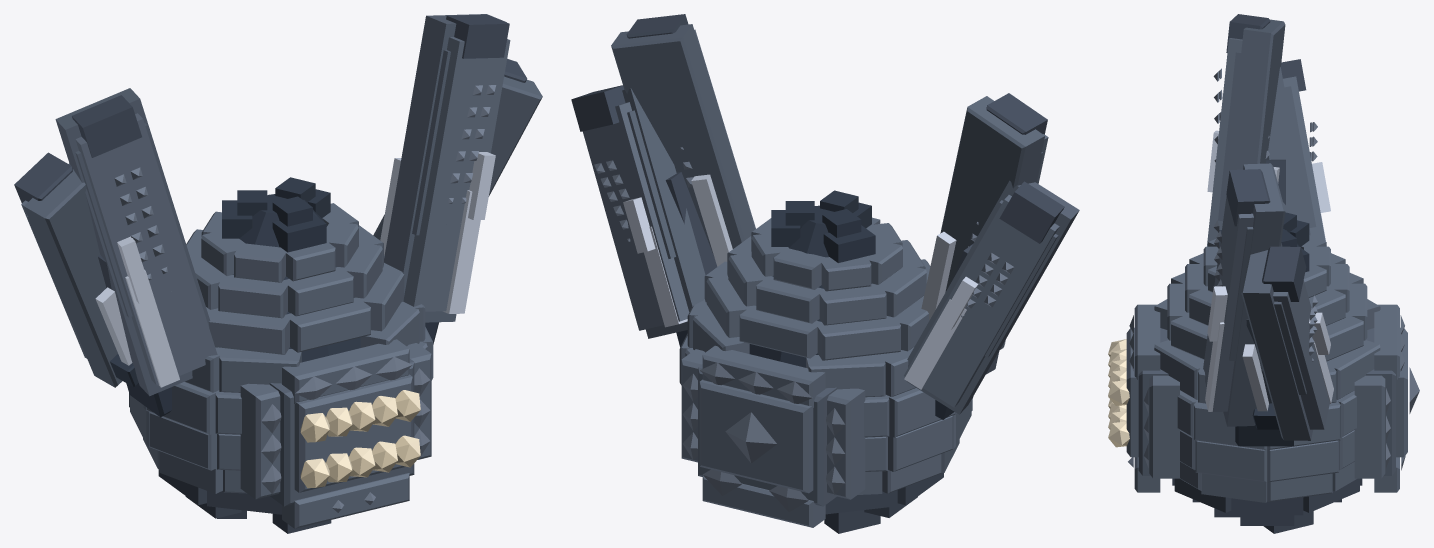
Rendered from Steel Vanguard Egg.fbx.
3 renders of one model, left to right at view 1: azimuth 30°, elevation 25°; view 2: azimuth 150°, elevation 25°; view 3: azimuth 270°, elevation 25°, orthographic. The views are drawn at different scales.
Parts seen in each view (by area): view 1: Left | Twin-panel mechanical wing, Right | Twin-panel mechanical wing, Front | raised panel, Front | side pillar -0.53, Front | cross rail 0.44, Front | cross rail 1.3, Tier 08 | steel block 01, Tier 08 | steel block 08, Front | square armor carrier, Tier 07 | steel block 10, Tier 09 | steel block 08, Tier 05 | steel block 09 (+32 smaller); view 2: Right | Twin-panel mechanical wing, Left | Twin-panel mechanical wing, Rear | raised panel, Rear | side pillar -0.53, Rear | cross rail 1.3, Tier 08 | steel block 06, Tier 08 | steel block 05, Rear | cross rail 0.44, Tier 07 | steel block 07, Rear | square armor carrier, Tier 09 | steel block 06, Tier 05 | steel block 08 (+26 smaller); view 3: Right | Twin-panel mechanical wing, Left | Twin-panel mechanical wing, Rear | side pillar +0.53, Front | side pillar +0.53, Tier 05 | steel block 04, Tier 05 | steel block 03, Front | cross rail 1.3, Rear | cross rail 1.3, Tier 07 | steel block 05, Tier 07 | steel block 02, Tier 04 | steel block 03, Tier 06 | steel block 03 (+32 smaller).
Part boxes in pixels (left/top/right/bottom): Left | Twin-panel mechanical wing: left=14, top=88, right=217, bottom=417; Right | Twin-panel mechanical wing: left=373, top=14, right=542, bottom=344; Front | raised panel: left=294, top=374, right=412, bottom=492; Front | side pillar -0.53: left=240, top=383, right=280, bottom=499; Front | cross rail 0.44: left=282, top=473, right=409, bottom=528; Front | cross rail 1.3: left=282, top=339, right=409, bottom=403; Tier 08 | steel block 01: left=285, top=297, right=370, bottom=352; Tier 08 | steel block 08: left=207, top=308, right=289, bottom=354; Front | square armor carrier: left=269, top=358, right=414, bottom=506; Tier 07 | steel block 10: left=219, top=348, right=301, bottom=392; Tier 09 | steel block 08: left=218, top=275, right=290, bottom=318; Tier 05 | steel block 09: left=149, top=412, right=216, bottom=470; Right | Twin-panel mechanical wing: left=571, top=14, right=755, bottom=347; Left | Twin-panel mechanical wing: left=904, top=93, right=1079, bottom=419; Rear | raised panel: left=699, top=379, right=813, bottom=493; Rear | side pillar -0.53: left=827, top=388, right=865, bottom=499; Rear | cross rail 1.3: left=702, top=345, right=825, bottom=407; Tier 08 | steel block 06: left=817, top=316, right=900, bottom=360; Tier 08 | steel block 05: left=739, top=305, right=822, bottom=358; Rear | cross rail 0.44: left=702, top=475, right=825, bottom=527; Tier 07 | steel block 07: left=806, top=354, right=885, bottom=397; Rear | square armor carrier: left=698, top=364, right=837, bottom=506; Tier 09 | steel block 06: left=819, top=283, right=886, bottom=325; Tier 05 | steel block 08: left=888, top=415, right=952, bottom=471; Right | Twin-panel mechanical wing: left=1203, top=163, right=1333, bottom=446; Left | Twin-panel mechanical wing: left=1207, top=14, right=1330, bottom=246; Rear | side pillar +0.53: left=1354, top=375, right=1385, bottom=478; Front | side pillar +0.53: left=1149, top=375, right=1179, bottom=478; Tier 05 | steel block 04: left=1267, top=440, right=1339, bottom=482; Tier 05 | steel block 03: left=1195, top=440, right=1267, bottom=482; Front | cross rail 1.3: left=1134, top=304, right=1160, bottom=379; Rear | cross rail 1.3: left=1374, top=304, right=1399, bottom=379; Tier 07 | steel block 05: left=1327, top=340, right=1380, bottom=399; Tier 07 | steel block 02: left=1154, top=340, right=1204, bottom=399; Tier 04 | steel block 03: left=1201, top=473, right=1267, bottom=502; Tier 06 | steel block 03: left=1194, top=401, right=1267, bottom=449.
Size of the model in its own units: 368 by 315 by 216.
